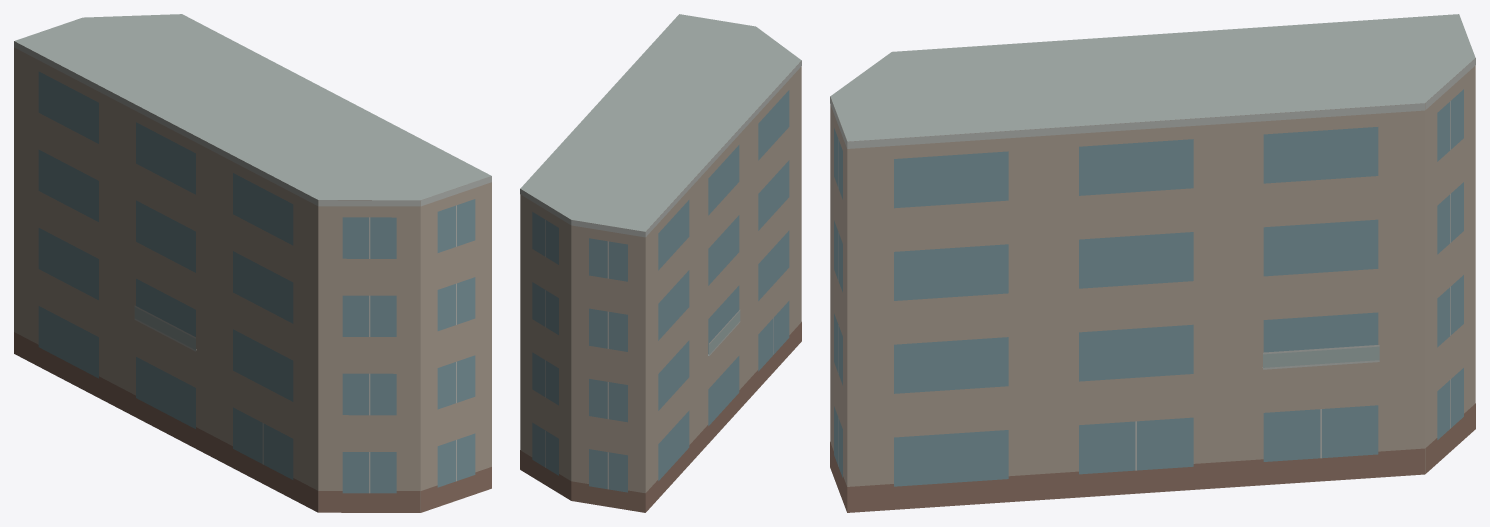
File: survey-upis-32976903.glb
3 renders of one model, left to right at view 1: azimuth 30°, elevation 25°; view 2: azimuth 150°, elevation 25°; view 3: azimuth 270°, elevation 25°, orthographic. The views are drawn at different scales.
Visible parts, largest first — view 1: survey-upis-32976903.tmp; view 2: survey-upis-32976903.tmp; view 3: survey-upis-32976903.tmp.
Part boxes in pixels (bbox=[...]): survey-upis-32976903.tmp: bbox=[14, 14, 491, 512]; survey-upis-32976903.tmp: bbox=[520, 14, 801, 512]; survey-upis-32976903.tmp: bbox=[830, 14, 1475, 512].
Size of the model in its own units: 9 by 12.2 by 19.23.
